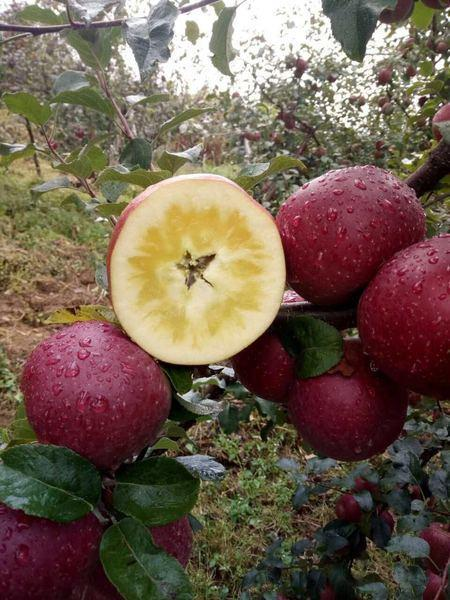apple: (21, 317, 171, 472), (273, 161, 427, 306), (285, 325, 401, 456), (357, 232, 450, 395)
